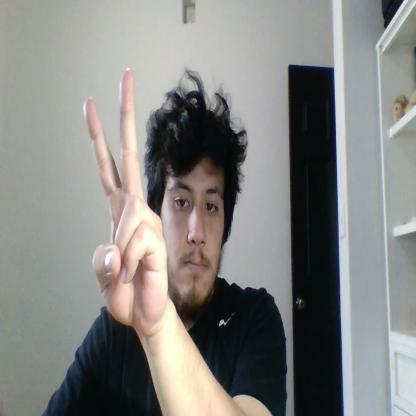V: (83, 68, 167, 330)
